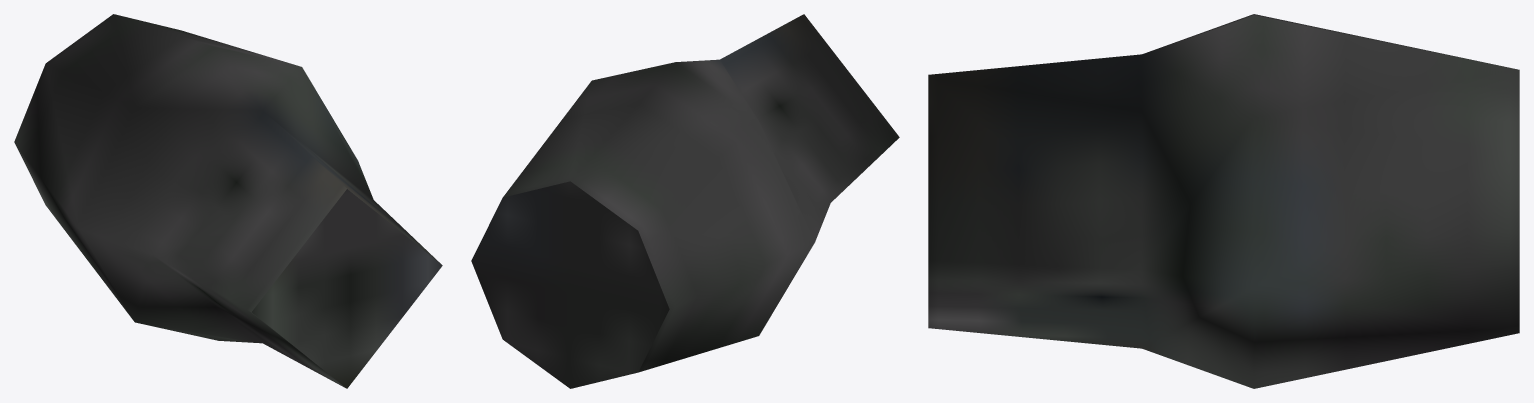
File: Sniper_Rifle_Object003_Stock_Main_(000721).glb
3 views of the same model, side by side, from view 1: azimuth 30°, elevation 25°; view 2: azimuth 150°, elevation 25°; view 3: azimuth 270°, elevation 25° (orthographic). The views are drawn at different scales.
Visible parts, largest first — view 1: Object003; view 2: Object003; view 3: Object003.
Boxes of the visible parts, left/top/right/bottom form: Object003: left=14, top=14, right=442, bottom=388; Object003: left=471, top=14, right=899, bottom=388; Object003: left=928, top=14, right=1519, bottom=388.
Bounding box in the file's own units: 0.0822 × 0.0822 × 0.1191.
Materials: 1 (1 with a texture image).
